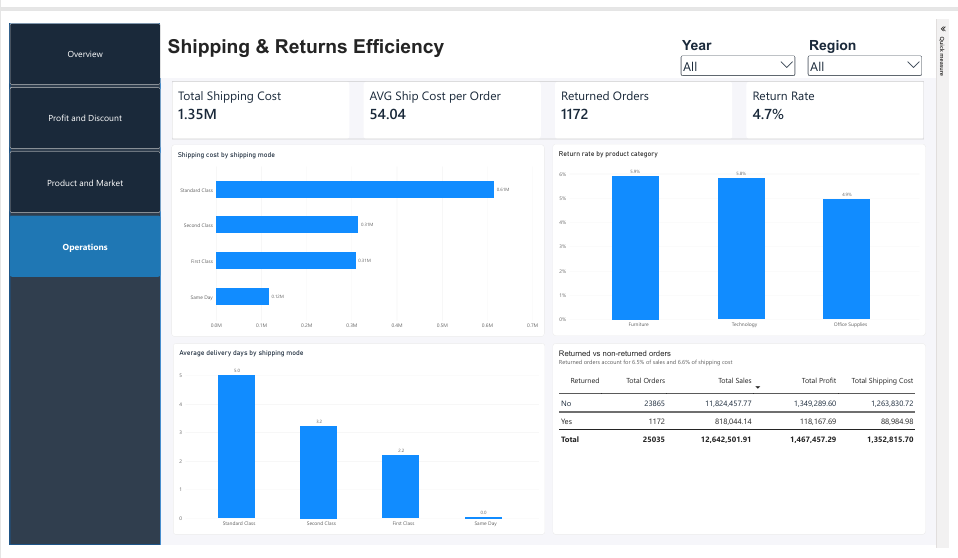

The page's visual inventory and layout, read from the dashboard file:
{"tool":"powerbi","page":{"name":"Operations","canvas":[2560,1440],"ordinal":3},"visuals":[{"type":"shape","box":[0,0,416,1441.3],"z":0},{"type":"shape","box":[416.6,0,2143.4,151.2],"z":1000},{"type":"textbox","box":[416,32,960,128],"z":2000},{"type":"slicer","fields":{"Values":["Sheet1.Region"]},"box":[2199.7,37.6,325.6,137.7],"z":3000},{"type":"slicer","fields":{"Values":["Sheet1.Order Date.Variation.Date Hierarchy.Year","Sheet1.Order Date.Variation.Date Hierarchy.Quarter","Sheet1.Order Date.Variation.Date Hierarchy.Month"]},"box":[1849,37.6,325.6,137.7],"z":4000},{"type":"cardVisual","fields":{"Data":["Sheet1.Total Shipping Cost","Sheet1.AVG Ship Cost per Order","Sheet1.Total Returns","Sheet1.Return Rate"]},"box":[448,160,2080,160],"z":5000},{"type":"clusteredBarChart","title":"Shipping cost by shipping mode","fields":{"Category":["Sheet1.Ship Mode"],"Y":["Sum(Sheet1.Shipping Cost)"]},"box":[447.2,334.5,1030,530],"z":6000},{"type":"clusteredColumnChart","title":"Return rate by product category","fields":{"Category":["Sheet1.Category"],"Y":["Sheet1.Return Rate"]},"box":[1500,333.3,1030,530],"z":7000},{"type":"clusteredColumnChart","title":"Average delivery days by shipping mode","fields":{"Category":["Sheet1.Ship Mode"],"Y":["Sheet1.Avg Delivery Days"]},"box":[450.7,883.9,1028.2,528.2],"z":8000},{"type":"tableEx","title":"Returned vs non-returned orders","fields":{"Values":["Sheet1.Returned","Sheet1.Total Orders","Sum(Sheet1.Sales)","Sheet1.Total Profit","Sheet1.Total Shipping Cost"]},"box":[1500,884,1030,528],"z":9000},{"type":"pageNavigator","box":[0,0,415.5,700.7],"z":10000}]}

Visuals, with their boxes on the page's 2560x1440 design canvas (x1, y1, x2, y2). These are canvas units, not pixel positions in the 958x558 screenshot, which may show the page scaled, cropped or inside an application window:
shape: (x1=0, y1=0, x2=416, y2=1441)
shape: (x1=417, y1=0, x2=2560, y2=151)
textbox: (x1=416, y1=32, x2=1376, y2=160)
slicer - Sheet1.Region: (x1=2200, y1=38, x2=2525, y2=175)
slicer - Sheet1.Order Date.Variation.Date Hierarchy.Year x Sheet1.Order Date.Variation.Date Hierarchy.Quarter: (x1=1849, y1=38, x2=2175, y2=175)
cardVisual - Sheet1.Total Shipping Cost x Sheet1.AVG Ship Cost per Order: (x1=448, y1=160, x2=2528, y2=320)
"Shipping cost by shipping mode" clusteredBarChart: (x1=447, y1=334, x2=1477, y2=864)
"Return rate by product category" clusteredColumnChart: (x1=1500, y1=333, x2=2530, y2=863)
"Average delivery days by shipping mode" clusteredColumnChart: (x1=451, y1=884, x2=1479, y2=1412)
"Returned vs non-returned orders" tableEx: (x1=1500, y1=884, x2=2530, y2=1412)
pageNavigator: (x1=0, y1=0, x2=416, y2=701)
